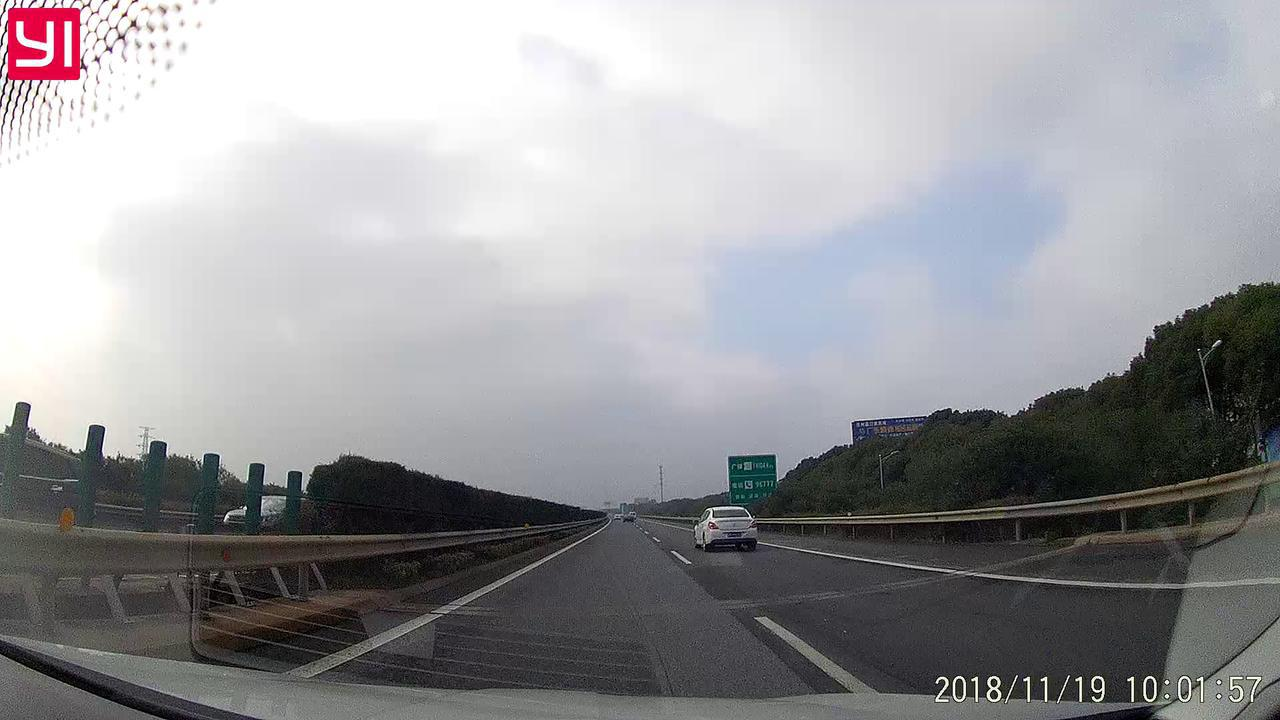car: (691, 505, 757, 552)
